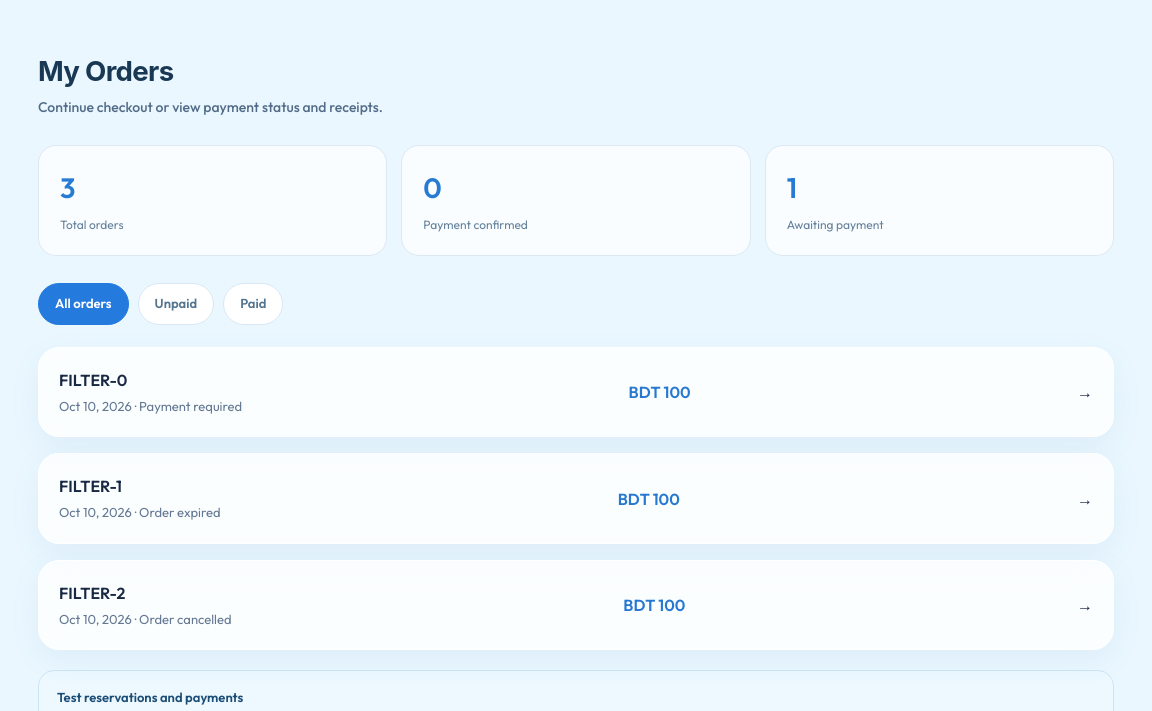
Test: customer commerce screens › excludes expired and cancelled orders from the unpaid filter
Check: the text "FILTER-0" is shown, box [59,370,127,390]
Step 1. Click the button "Unpaid" → [176, 304], box [138,283,214,325]
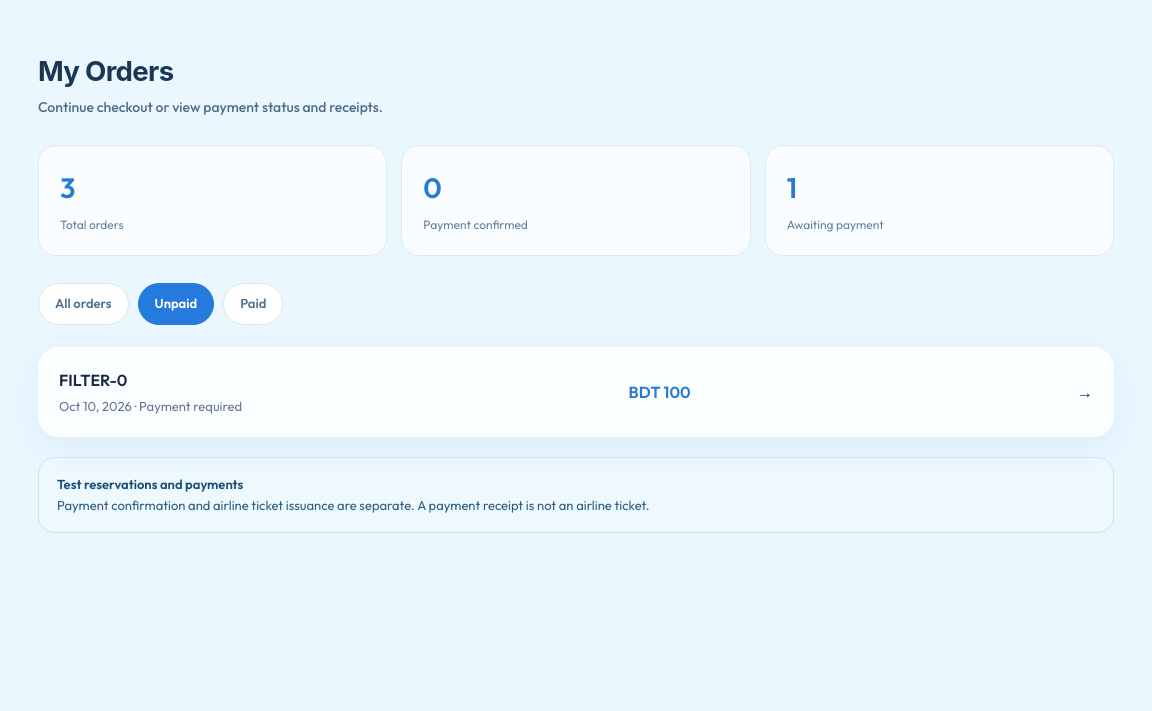
Check: the text "FILTER-0" is shown, box [59,370,127,390]
Check: the link "FILTER-1" is gone
Check: the link "FILTER-2" is gone
